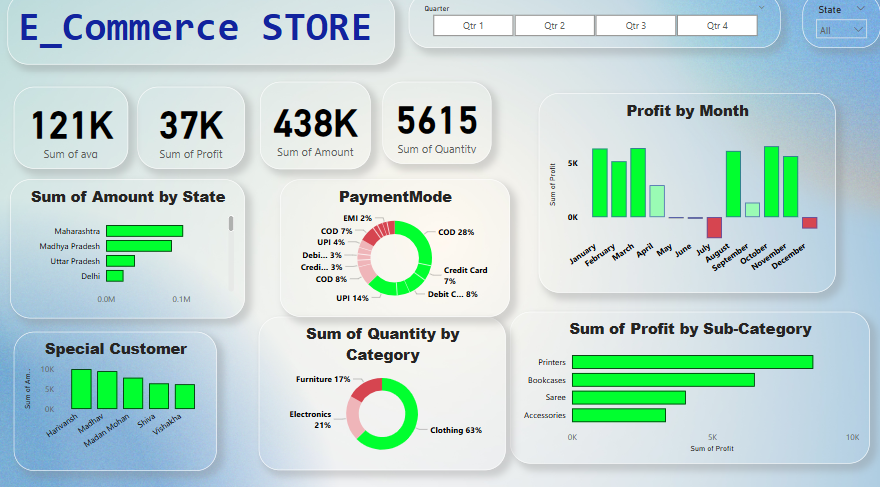

This screenshot's page, from the dashboard's own definition file:
{"tool":"powerbi","page":{"name":"Page 1","canvas":[1280,720],"ordinal":0},"visuals":[{"type":"textbox","box":[11.1,0,563,103.7],"z":0},{"type":"barChart","fields":{"Category":["Details.Sub-Category"],"Y":["Details.Profit"]},"box":[741,464.1,523.1,220.5],"z":1000},{"type":"donutChart","fields":{"Category":["Details.Category"],"Y":["Details.Quantity"]},"box":[376.9,471.8,359,223.1],"z":2000},{"type":"donutChart","title":"PaymentMode","fields":{"Category":["Details.Category"],"Y":["Details.Quantity"],"Series":["Details.PaymentMode"]},"box":[407.3,270.7,334.1,200],"z":3000},{"type":"card","fields":{"Values":["Details.Amount"]},"box":[378,129.3,161,126.8],"z":4000},{"type":"card","fields":{"Values":["Details.Quantity"]},"box":[556.1,129.3,158.5,119.5],"z":5000},{"type":"card","fields":{"Values":["Details.Profit"]},"box":[200,136.6,156.1,119.5],"z":6000},{"type":"card","fields":{"Values":["Details.avg"]},"box":[19.4,137.1,166.1,119.4],"z":7000},{"type":"columnChart","title":" Profit by Month","fields":{"Category":["Orders (1).Order Date.Variation.Date Hierarchy.Month"],"Y":["Details.Profit"]},"box":[782.9,146.3,431.7,290.2],"z":8000},{"type":"barChart","fields":{"Category":["Orders (1).State"],"Y":["Details.Amount"]},"box":[14.6,270.7,341.5,202.4],"z":9000},{"type":"columnChart","title":"Special Customer","fields":{"Category":["Orders (1).CustomerName"],"Y":["Details.Amount"]},"box":[19.5,492.7,295.1,202.4],"z":10000},{"type":"slicer","fields":{"Values":["Orders (1).State"]},"box":[1166.7,0,113.7,80.4],"z":11000},{"type":"slicer","fields":{"Values":["Orders (1).Order Date.Variation.Date Hierarchy.Quarter"]},"box":[594.4,0,540.7,79.6],"z":12000}]}

Visuals, with their boxes in screenshot pixels (x1, y1, x2, y2), scaled from the page's 1280x720 canvas onto the 880x487 screenshot:
textbox: [left=8, top=0, right=395, bottom=70]
barChart - Details.Sub-Category x Details.Profit: [left=509, top=314, right=869, bottom=463]
donutChart - Details.Category x Details.Quantity: [left=259, top=319, right=506, bottom=470]
"PaymentMode" donutChart: [left=280, top=183, right=510, bottom=318]
card - Details.Amount: [left=260, top=87, right=371, bottom=173]
card - Details.Quantity: [left=382, top=87, right=491, bottom=168]
card - Details.Profit: [left=138, top=92, right=245, bottom=173]
card - Details.avg: [left=13, top=93, right=128, bottom=173]
" Profit by Month" columnChart: [left=538, top=99, right=835, bottom=295]
barChart - Orders (1).State x Details.Amount: [left=10, top=183, right=245, bottom=320]
"Special Customer" columnChart: [left=13, top=333, right=216, bottom=470]
slicer - Orders (1).State: [left=802, top=0, right=879, bottom=54]
slicer - Orders (1).Order Date.Variation.Date Hierarchy.Quarter: [left=409, top=0, right=780, bottom=54]
